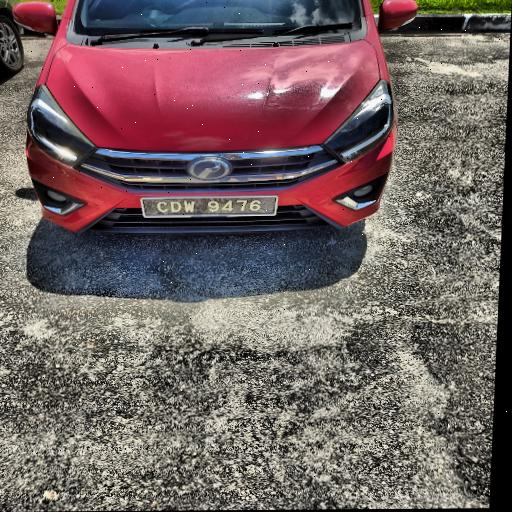license_plate: (142, 197, 276, 217)
